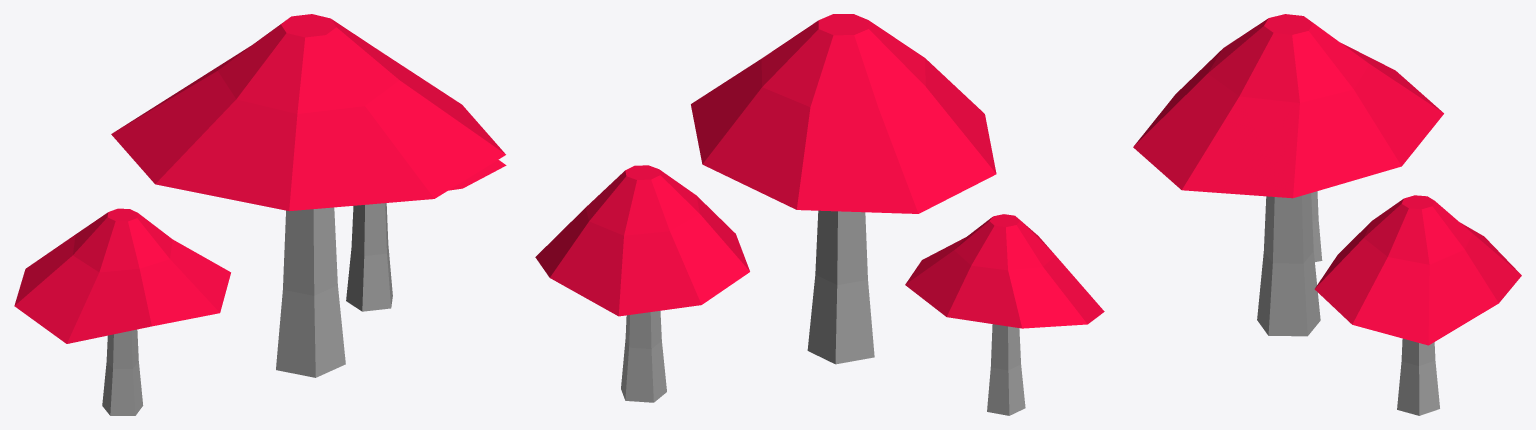
The model's file is Mushroom_03.fbx.
3 renders of one model, left to right at view 1: azimuth 30°, elevation 25°; view 2: azimuth 150°, elevation 25°; view 3: azimuth 270°, elevation 25°, orthographic. The views are drawn at different scales.
Parts seen in each view (by area): view 1: Mushroom_03; view 2: Mushroom_03; view 3: Mushroom_03.
Boxes of the visible parts, x1=… form: Mushroom_03: x1=14, y1=14, x2=506, y2=415; Mushroom_03: x1=535, y1=14, x2=1104, y2=415; Mushroom_03: x1=1133, y1=14, x2=1521, y2=415.
Size of the model in its own units: 233 by 157 by 171.
